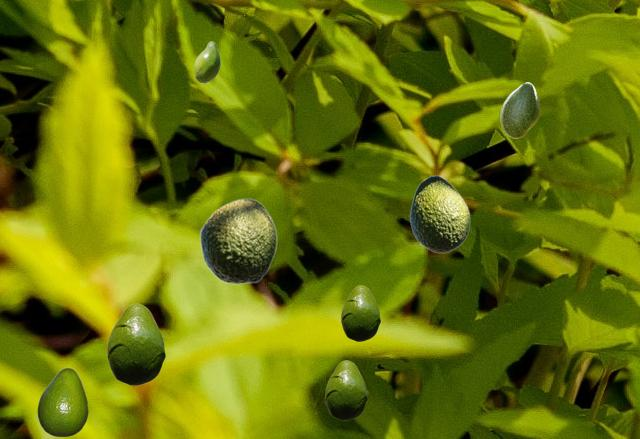avocado: (199, 198, 276, 283), (409, 175, 469, 252), (107, 303, 164, 384), (37, 367, 87, 435), (325, 360, 366, 419), (341, 285, 379, 340), (500, 82, 538, 137), (194, 41, 219, 82)
